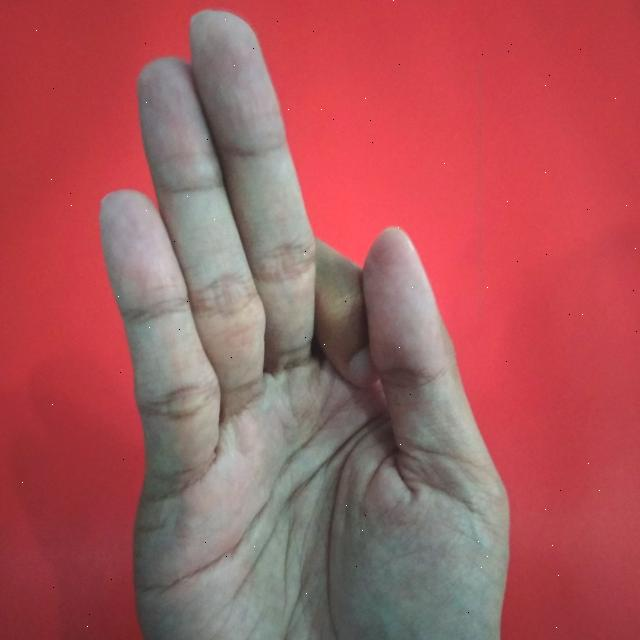F: (97, 8, 515, 640)
